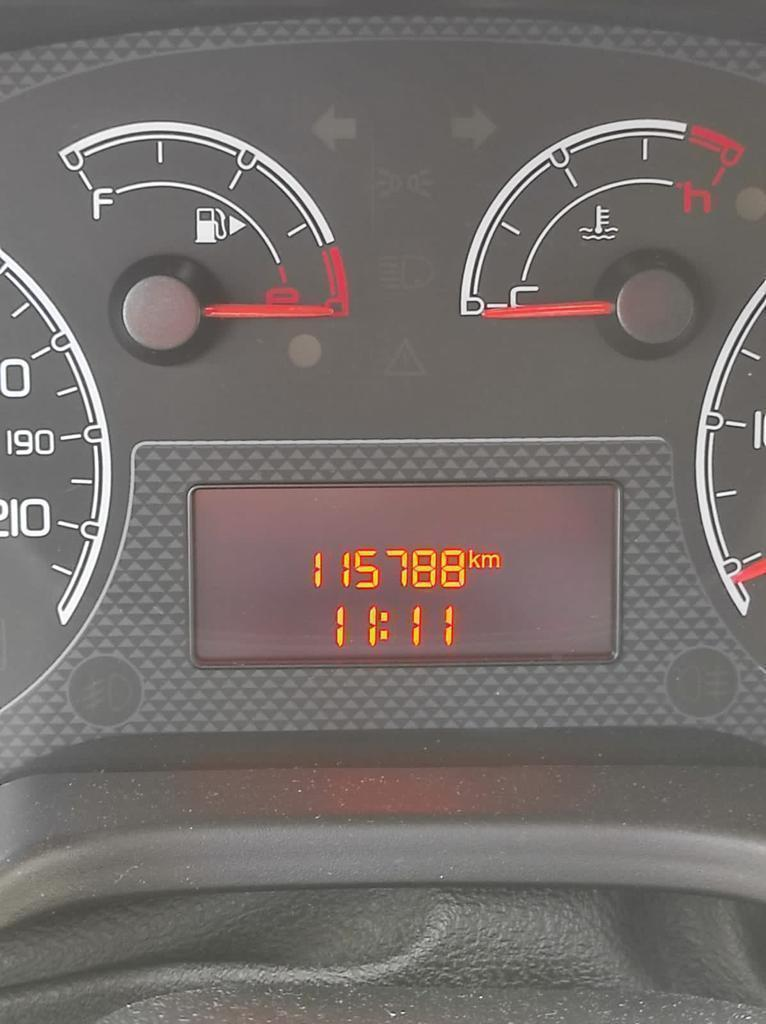1: (334, 605, 345, 648), (366, 604, 377, 647), (411, 604, 421, 647), (443, 605, 453, 646), (313, 551, 322, 588), (341, 551, 350, 588)
5: (353, 549, 379, 588)
7: (384, 549, 408, 586)
8: (439, 549, 465, 588), (411, 548, 436, 588)
X: (480, 553, 500, 568), (379, 611, 389, 640), (468, 549, 481, 568)
odometer: (187, 477, 622, 667)
